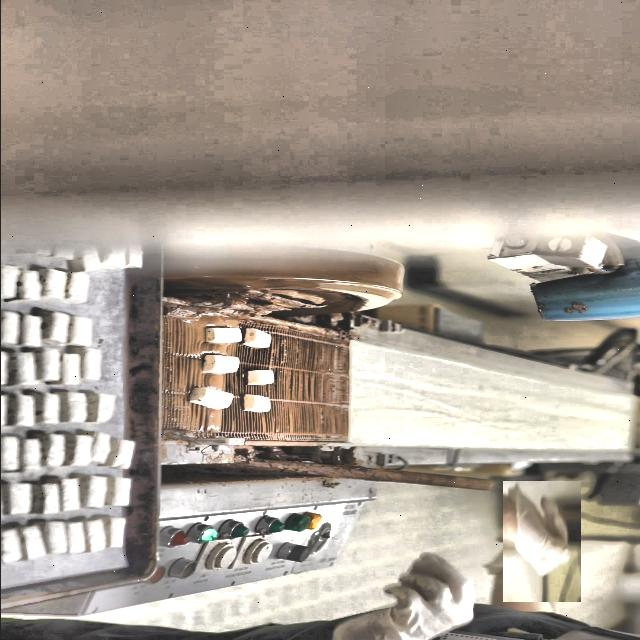gloved: (312, 551, 490, 640), (491, 491, 591, 591)
